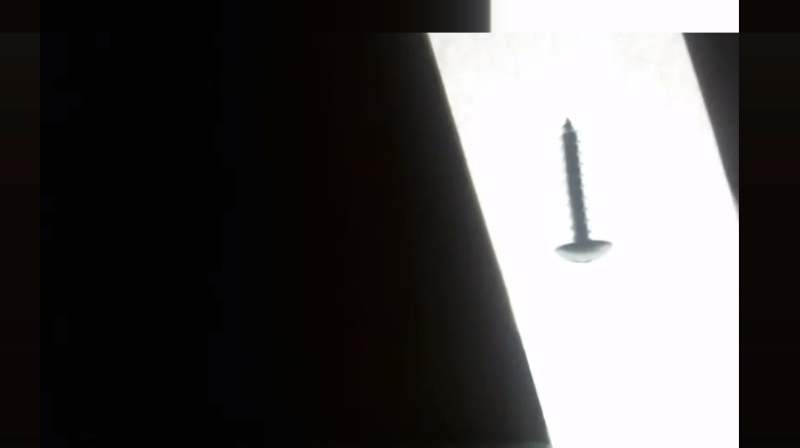S003: (551, 117, 615, 266)
